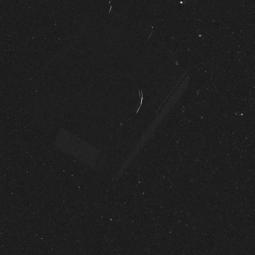cheops: (29, 35, 197, 186)
